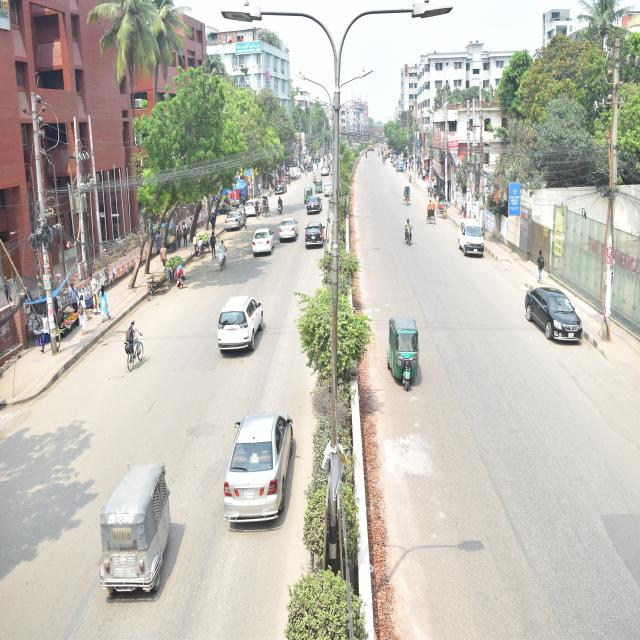car: (220, 402, 296, 548), (513, 266, 587, 378), (206, 278, 269, 372), (456, 198, 490, 278), (276, 209, 301, 264), (300, 211, 330, 255), (247, 219, 272, 271), (218, 208, 252, 236), (240, 188, 267, 222), (304, 192, 324, 228), (318, 176, 338, 207), (268, 178, 290, 195), (320, 164, 334, 190)
motorbike: (388, 207, 426, 276), (274, 189, 291, 226), (310, 170, 321, 186)
